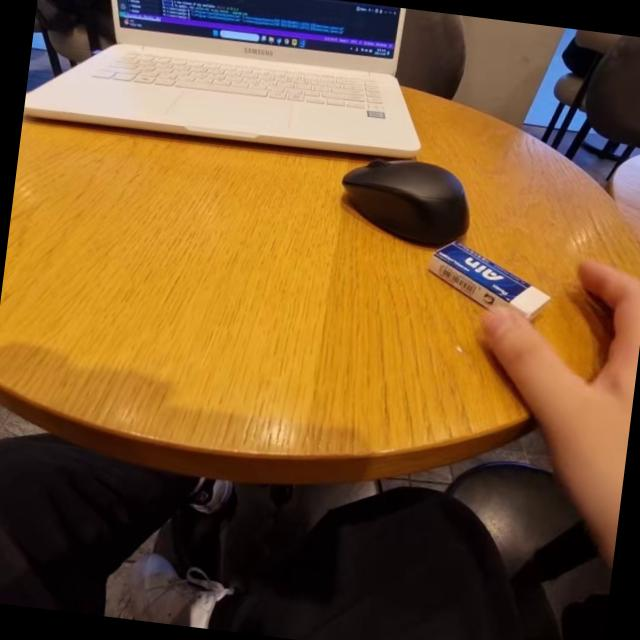eraser: (427, 226, 566, 331)
hand: (535, 239, 640, 540)
mouse: (330, 142, 484, 254)
